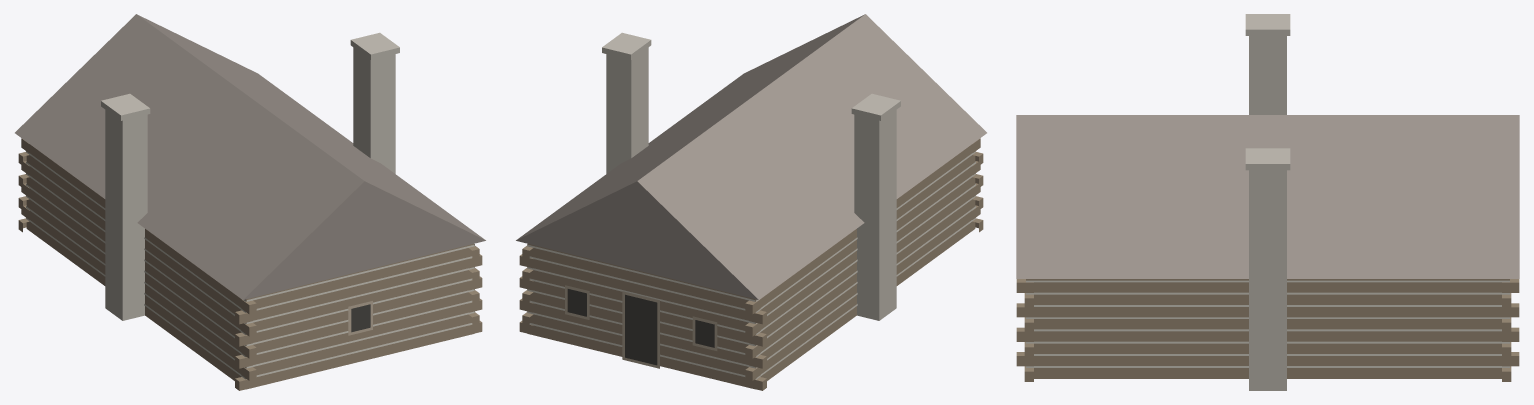
File: brown_boarding_house__documented_1835.glb
3 views of the same model, side by side, from view 1: azimuth 30°, elevation 25°; view 2: azimuth 150°, elevation 25°; view 3: azimuth 270°, elevation 25° (orthographic). The views are drawn at different scales.
Visible parts, largest first — view 1: brown_boarding_house__documented_1835; view 2: brown_boarding_house__documented_1835; view 3: brown_boarding_house__documented_1835.
Part boxes in pixels (left/top/right/bottom): brown_boarding_house__documented_1835: left=15, top=14, right=485, bottom=390; brown_boarding_house__documented_1835: left=516, top=14, right=986, bottom=390; brown_boarding_house__documented_1835: left=1016, top=14, right=1519, bottom=390.
Bounding box in the file's own units: 8.95 × 6.42 × 12.69.
